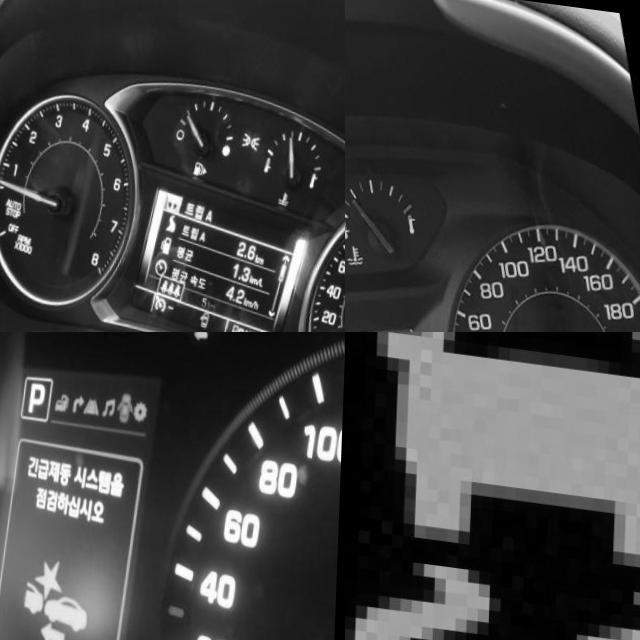Doors: (116, 378, 134, 411), (201, 302, 213, 319)
SideLamp: (241, 119, 263, 141)
